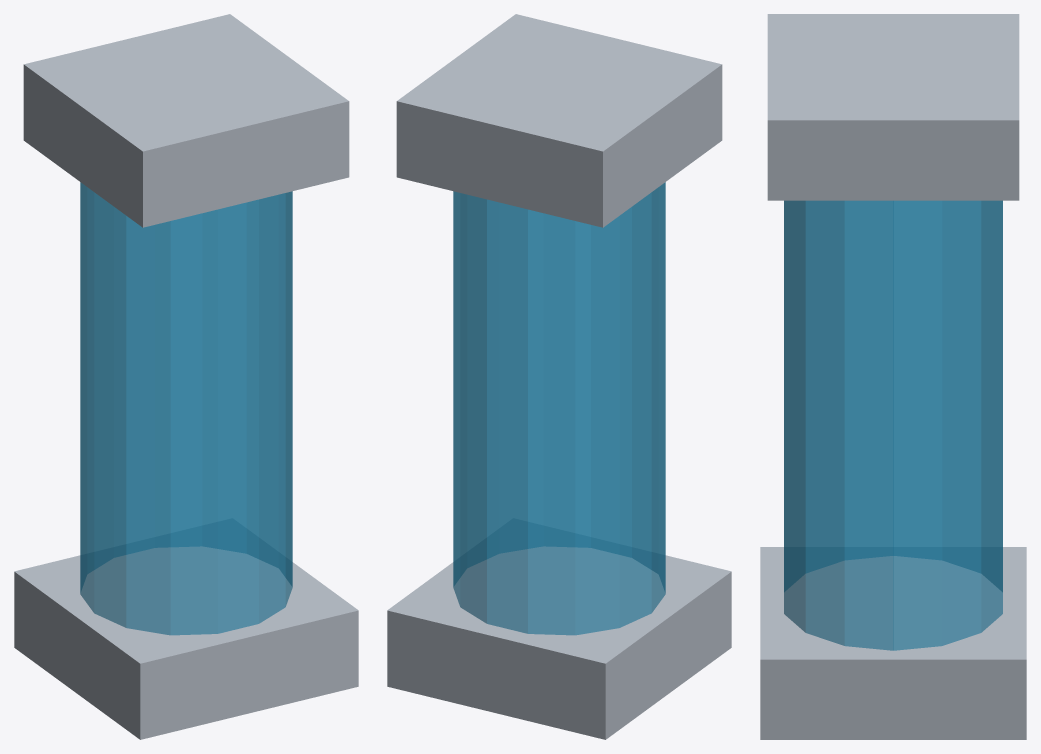
Rendered from scifi_cryo_chamber.obj.
3 views of the same model, side by side, from view 1: azimuth 30°, elevation 25°; view 2: azimuth 150°, elevation 25°; view 3: azimuth 270°, elevation 25° (orthographic). The views are drawn at different scales.
Parts seen in each view (by area): view 1: CryoChamber; view 2: CryoChamber; view 3: CryoChamber.
Part boxes in pixels (bbox=[...]): CryoChamber: bbox=[14, 14, 358, 739]; CryoChamber: bbox=[387, 14, 731, 739]; CryoChamber: bbox=[760, 14, 1026, 739].
Bounding box in the file's own units: 0.9 × 2.3 × 0.9.
